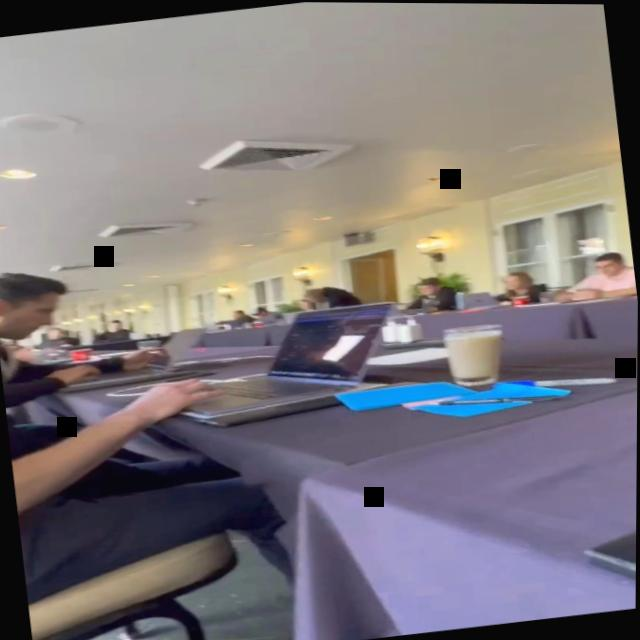NO-Mask: (1, 292, 62, 342), (592, 258, 621, 277), (502, 273, 521, 291), (419, 282, 436, 296), (51, 329, 65, 339), (300, 300, 313, 310), (307, 296, 322, 304), (111, 320, 121, 330), (232, 310, 241, 319), (253, 312, 266, 318)
